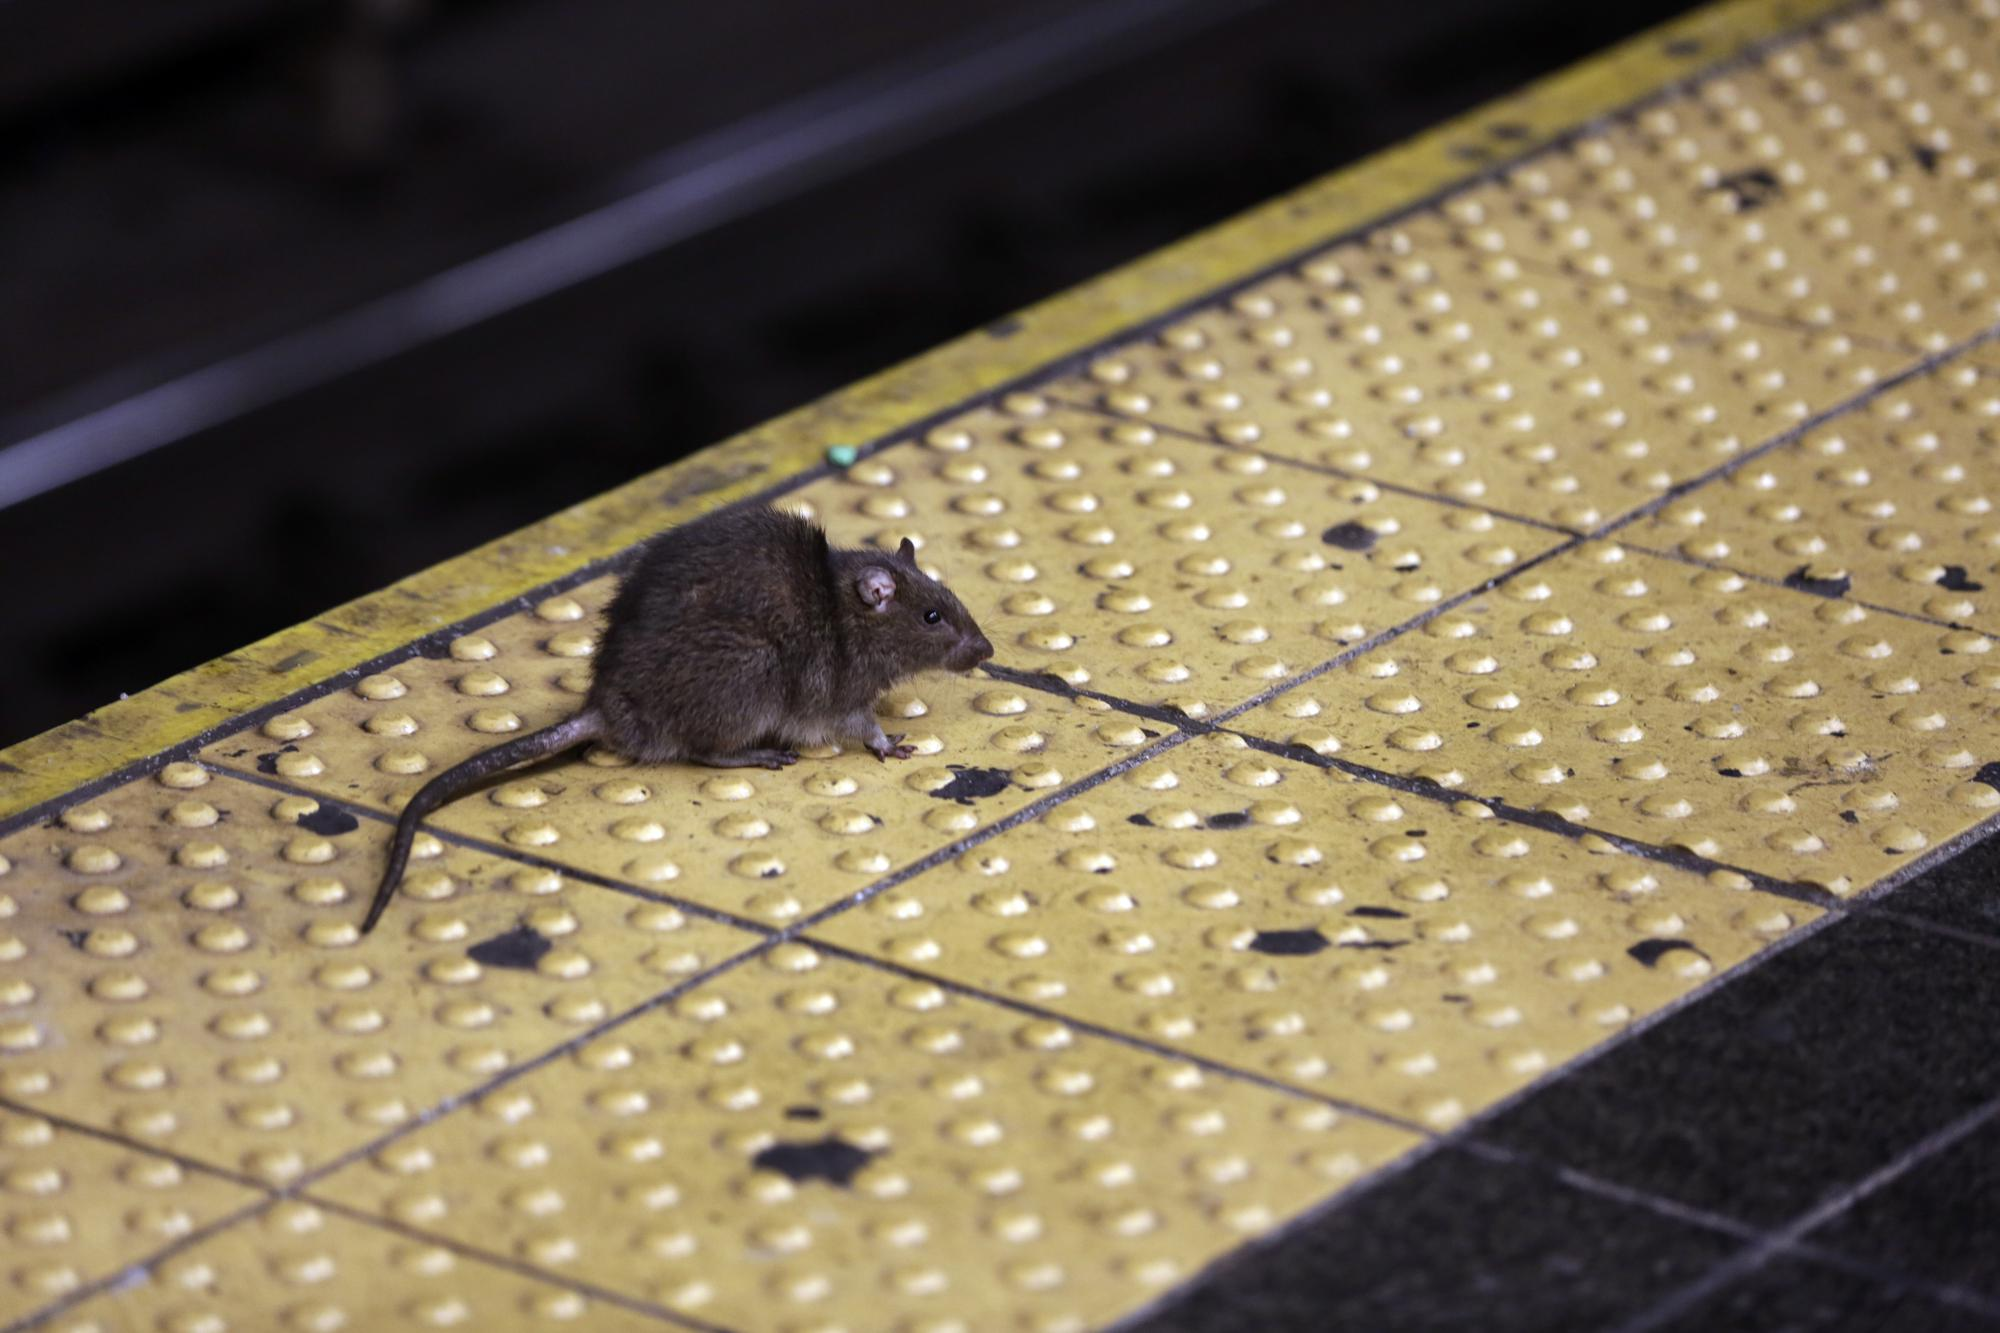Rat: (558, 481, 1001, 796)
